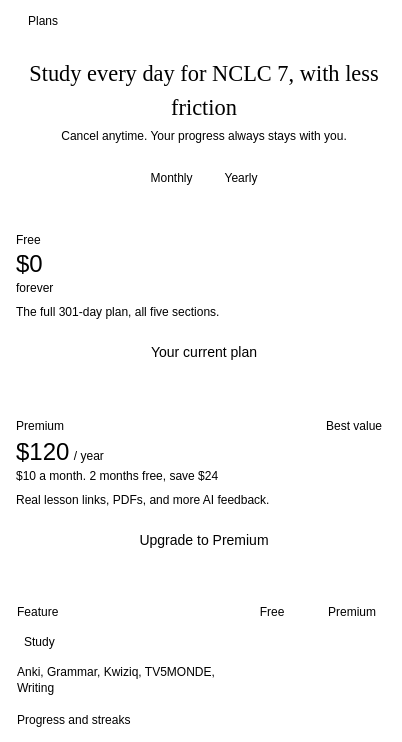
Test: Plans screen › starts on yearly and switches to monthly
The width and height of the screenshot is (402, 742).
Expected: the text "$120" is shown, [16,438,69,465]
Expected: the text "Best value" is shown, [326,419,382,433]
Step 1. Click the button "Monthly" → (172, 178), box [134,164,208,192]
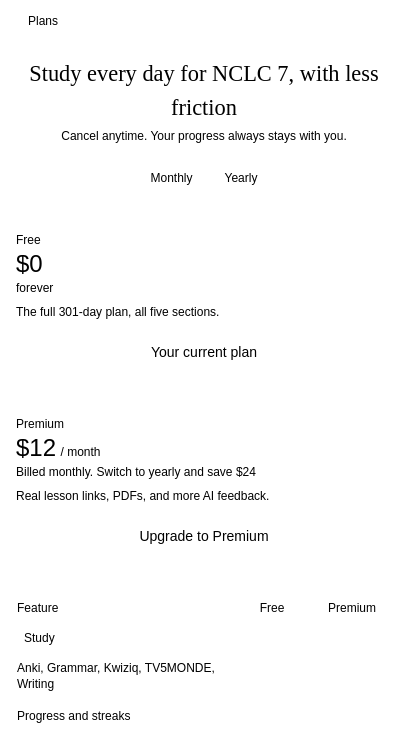
Expected: the text "$12" is shown, [16,434,56,461]
Result: the text "Best value" is gone
